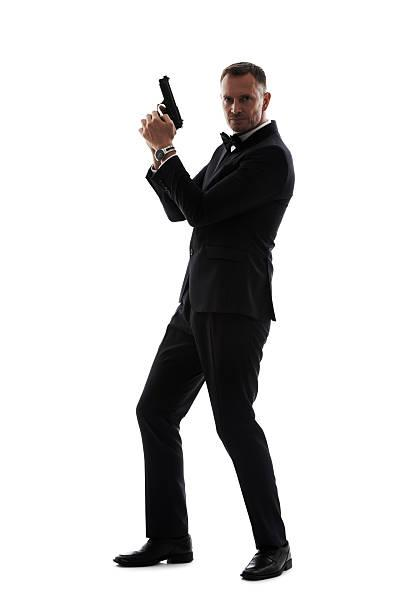weapon: (147, 69, 185, 133)
